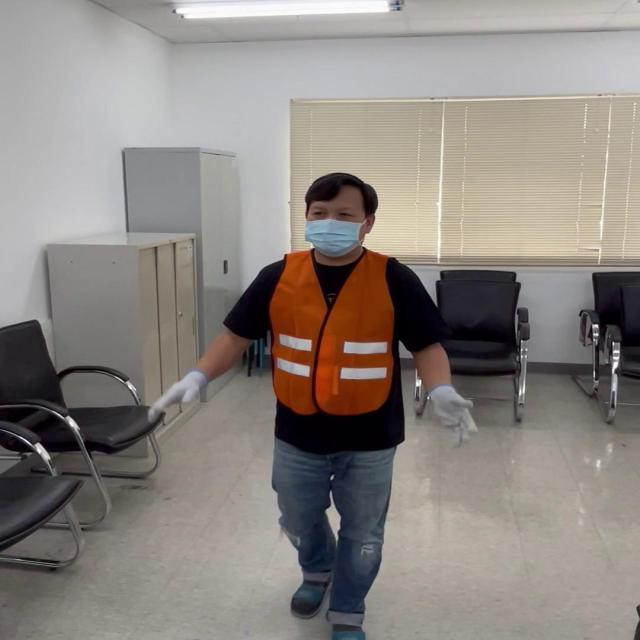gloved_hand: (424, 384, 479, 446), (158, 365, 215, 421)
